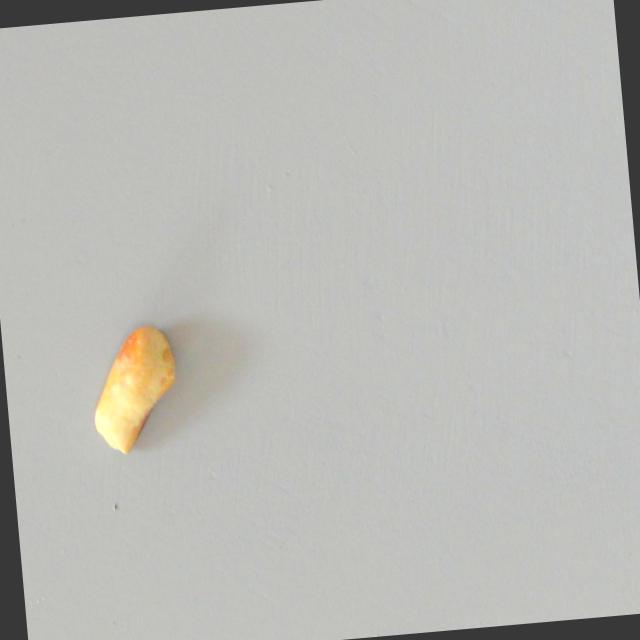dañado: (85, 322, 180, 456)
